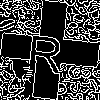R: (25, 25, 66, 74)
